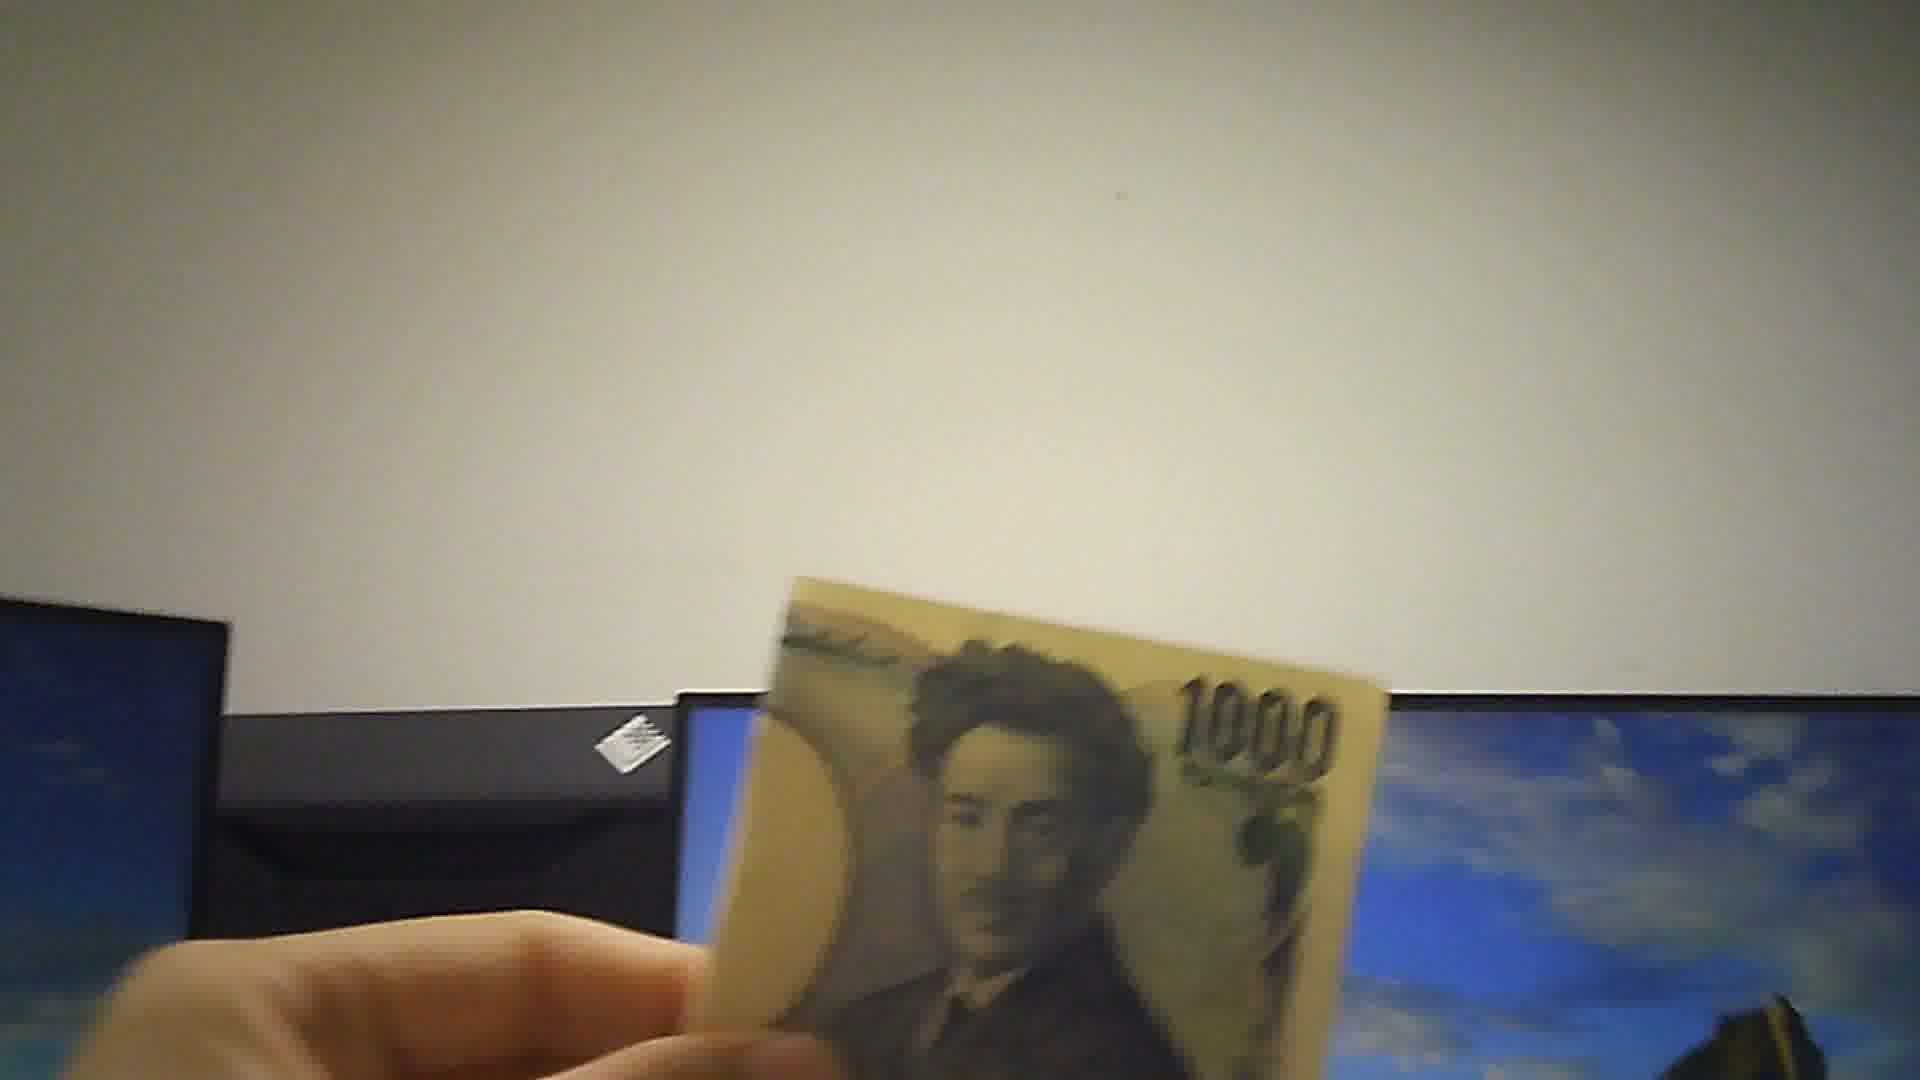1,000 Yen: (698, 559, 1390, 1079)
